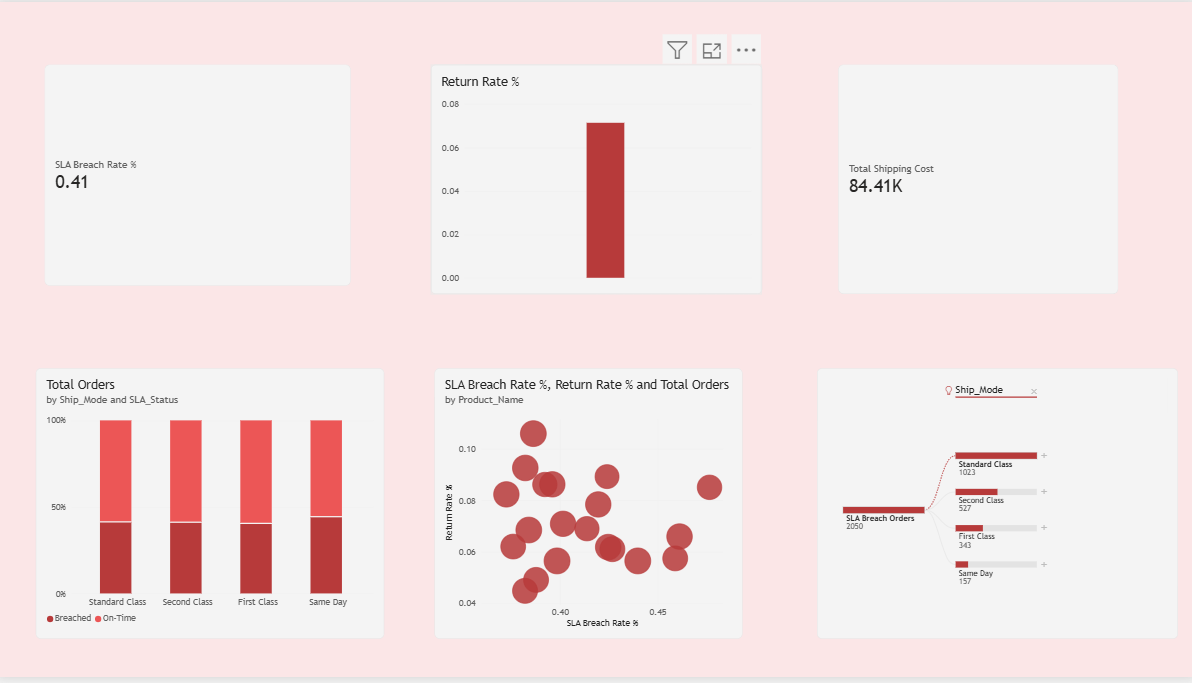

This screenshot's page, from the dashboard's own definition file:
{"tool":"powerbi","page":{"name":"Supply Chain & SLA","canvas":[1920,1080],"ordinal":1},"visuals":[{"type":"cardVisual","fields":{"Data":["_Measures.SLA Breach Rate %"]},"box":[76.3,99.9,490.6,354.3],"z":0},{"type":"cardVisual","fields":{"Data":["_Measures.Total Shipping Cost"]},"box":[1346.5,99.9,448.8,367.1],"z":1000},{"type":"clusteredColumnChart","fields":{"Y":["_Measures.Return Rate %"]},"box":[694,100,530.6,367.1],"z":2000},{"type":"hundredPercentStackedColumnChart","fields":{"Category":["Fact_Orders.Ship_Mode"],"Series":["Fact_Orders.SLA_Status"],"Y":["_Measures.Total Orders"]},"box":[61.8,585.1,557.9,432.5],"z":3000},{"type":"scatterChart","fields":{"Category":["Dim_Products.Product_Name"],"Size":["_Measures.Total Orders"],"X":["_Measures.SLA Breach Rate %"],"Y":["_Measures.Return Rate %"]},"box":[699.6,585.1,492.5,432.5],"z":4000},{"type":"decompositionTreeVisual","fields":{"Analyze":["_Measures.SLA Breach Orders"],"ExplainBy":["Fact_Orders.Ship_Mode","Dim_Customers.Region","Dim_Products.Category"]},"box":[1312,585.1,577.9,432.5],"z":5000}]}

Visuals, with their boxes in screenshot pixels (x1, y1, x2, y2), scaled from the page's 1920x1080 canvas onto the 1192x683 screenshot:
cardVisual - _Measures.SLA Breach Rate %: box=[47, 63, 352, 287]
cardVisual - _Measures.Total Shipping Cost: box=[836, 63, 1115, 295]
clusteredColumnChart - _Measures.Return Rate %: box=[431, 63, 760, 295]
hundredPercentStackedColumnChart - Fact_Orders.Ship_Mode x Fact_Orders.SLA_Status: box=[38, 370, 385, 644]
scatterChart - Dim_Products.Product_Name x _Measures.Total Orders: box=[434, 370, 740, 644]
decompositionTreeVisual - _Measures.SLA Breach Orders x Fact_Orders.Ship_Mode: box=[815, 370, 1173, 644]
